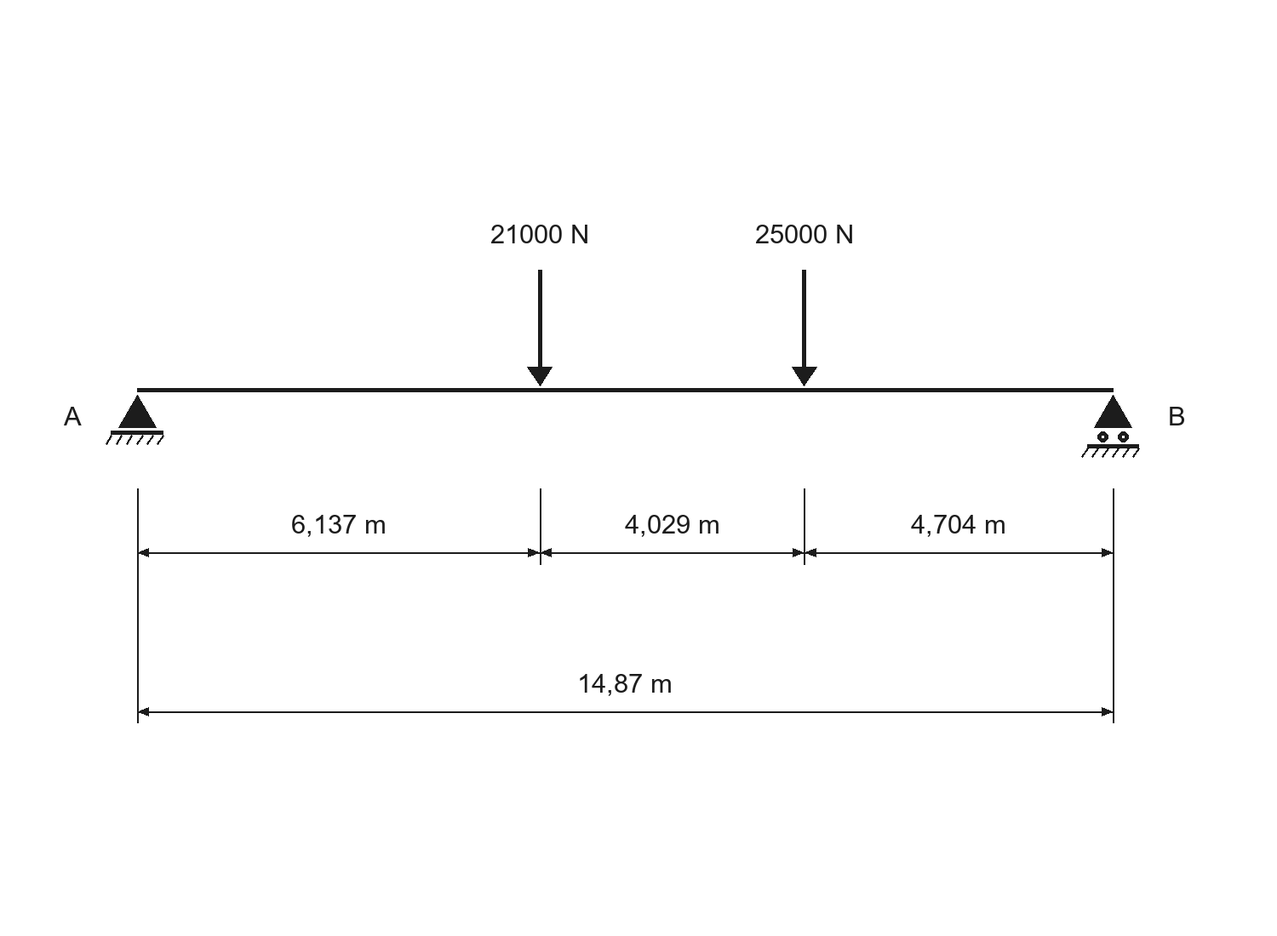pin_support: (106, 395, 164, 445)
point_load: (527, 270, 553, 386), (792, 270, 817, 386)
roller_support: (1081, 395, 1140, 458)
